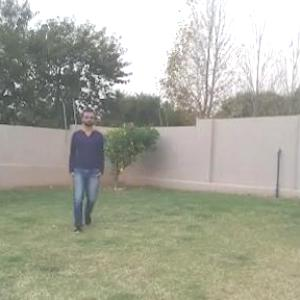follow: (70, 111, 98, 224)
